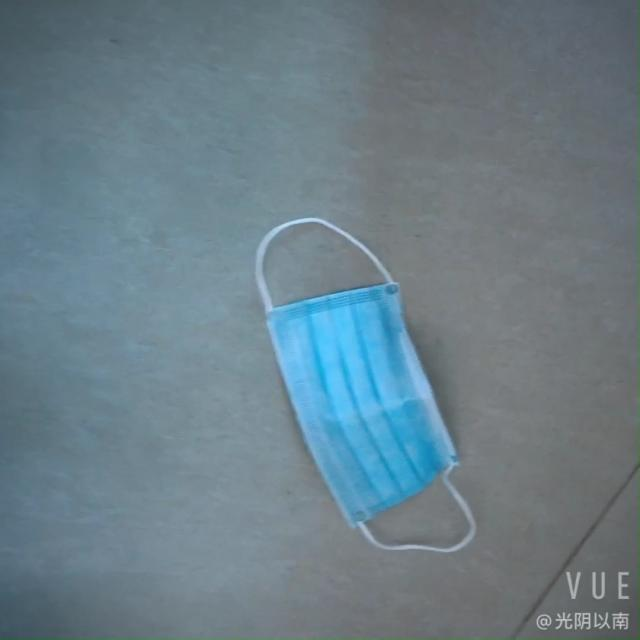face mask: (264, 296, 468, 522)
